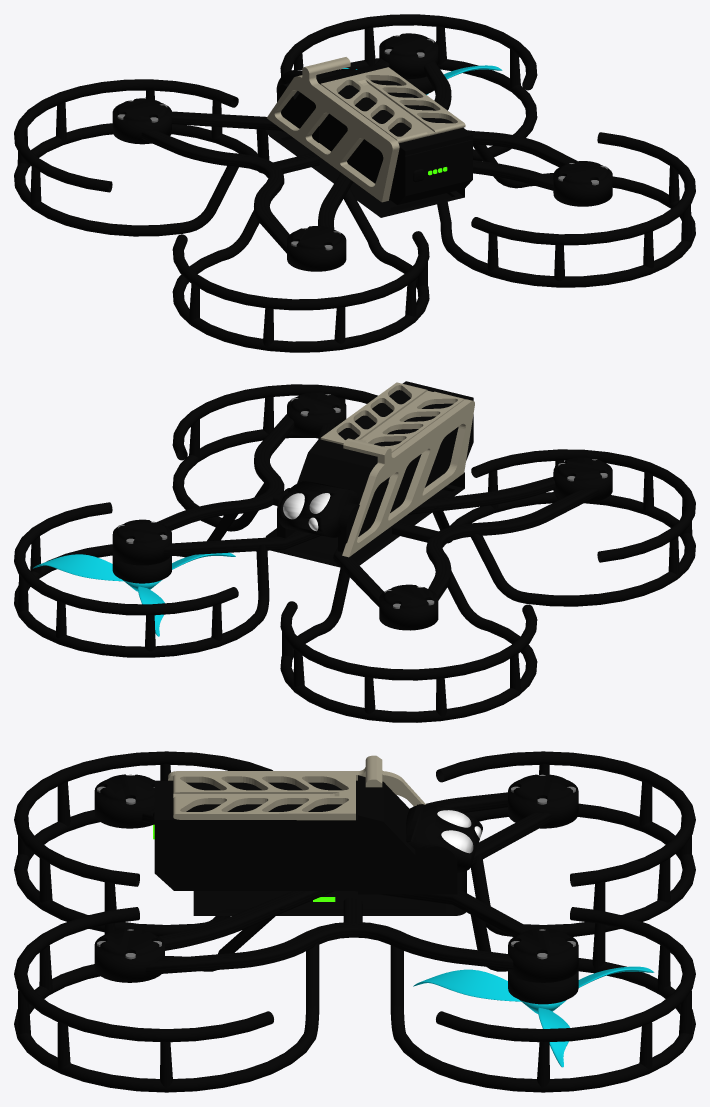
File: uploads_files_4453673_FPV+DRONE.gltf
3 views of the same model, one above another, from view 1: azimuth 30°, elevation 25°; view 2: azimuth 150°, elevation 25°; view 3: azimuth 270°, elevation 25° (orthographic). The views are drawn at different scales.
Visible parts, largest first — view 1: Circle, Plane, Cylinder, Cube.004, Cube.001, Cube.003, Cube, Cube.002; view 2: Circle, Plane, Cylinder, Cube.001, Cube.002, Cube.003, Cube.004, Cube, Cylinder.005, Cylinder.006, Cylinder.001; view 3: Circle, Cube.004, Plane, Cylinder, Cube.002, Cube.003, Cube, Cylinder.006, Cylinder.005, Cube.001, Cylinder.001.
Boxes of the visible parts, left/top/right/bottom form: Circle: left=14, top=14, right=695, bottom=352; Plane: left=141, top=58, right=577, bottom=253; Cylinder: left=112, top=33, right=612, bottom=271; Cube.004: left=319, top=80, right=472, bottom=204; Cube.001: left=267, top=57, right=399, bottom=202; Cube.003: left=320, top=67, right=465, bottom=143; Cube: left=265, top=118, right=464, bottom=217; Cube.002: left=277, top=64, right=387, bottom=142; Circle: left=14, top=384, right=695, bottom=722; Plane: left=157, top=414, right=599, bottom=606; Cylinder: left=112, top=392, right=612, bottom=630; Cube.001: left=342, top=399, right=474, bottom=557; Cube.002: left=277, top=439, right=388, bottom=552; Cube.003: left=320, top=382, right=464, bottom=452; Cube.004: left=338, top=381, right=473, bottom=512; Cube: left=265, top=472, right=464, bottom=567; Cylinder.005: left=278, top=481, right=358, bottom=537; Cylinder.006: left=33, top=552, right=235, bottom=636; Cylinder.001: left=112, top=555, right=171, bottom=583; Circle: left=14, top=751, right=695, bottom=1092; Cube.004: left=154, top=780, right=357, bottom=890; Plane: left=142, top=792, right=551, bottom=974; Cylinder: left=94, top=774, right=578, bottom=982; Cube.002: left=358, top=775, right=457, bottom=894; Cube.003: left=173, top=774, right=355, bottom=820; Cube: left=193, top=871, right=466, bottom=915; Cylinder.006: left=413, top=966, right=654, bottom=1067; Cylinder.005: left=406, top=804, right=482, bottom=872; Cube.001: left=168, top=755, right=425, bottom=806; Cylinder.001: left=508, top=969, right=578, bottom=1004.
Size of the model in its own units: 7.03 by 2.01 by 7.16.
